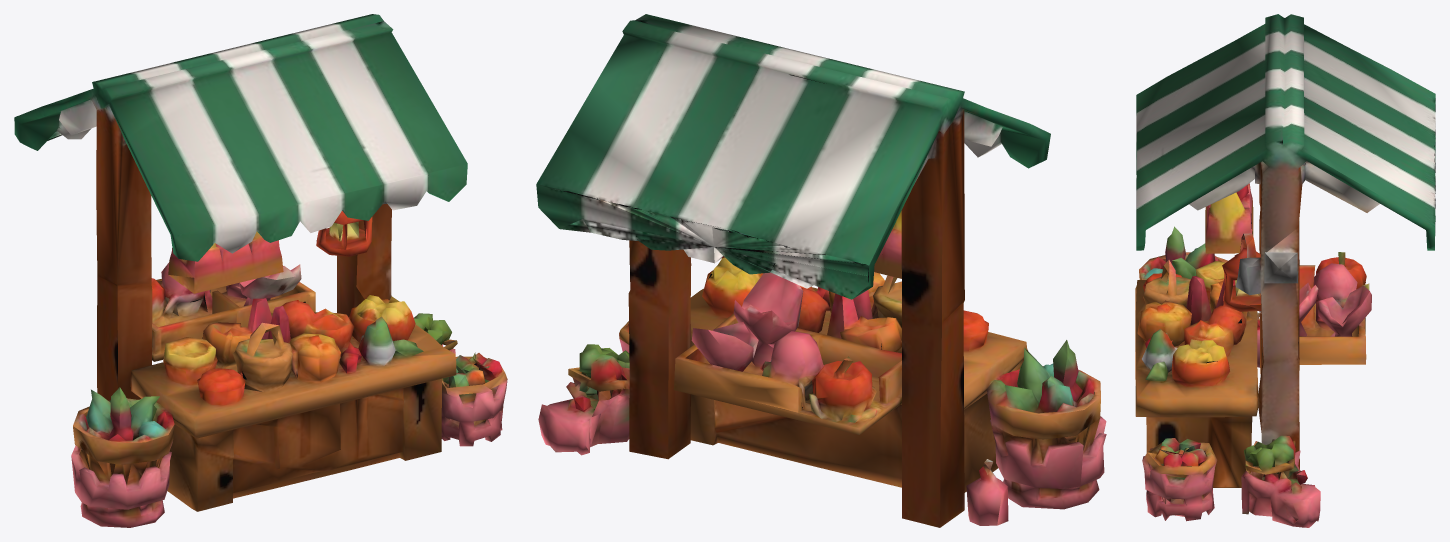
Rendered from awning_stall_4_6000.glb.
3 views of the same model, side by side, from view 1: azimuth 30°, elevation 25°; view 2: azimuth 150°, elevation 25°; view 3: azimuth 270°, elevation 25° (orthographic). The views are drawn at different scales.
Parts seen in each view (by area): view 1: t6000; view 2: t6000; view 3: t6000.
Boxes of the visible parts, x1,y1,x2,y2 form: t6000: (14, 14, 507, 527); t6000: (536, 14, 1106, 527); t6000: (1135, 14, 1435, 527).
Size of the model in its own units: 1.82 by 1.55 by 1.18.
1 material, 1 textured.
